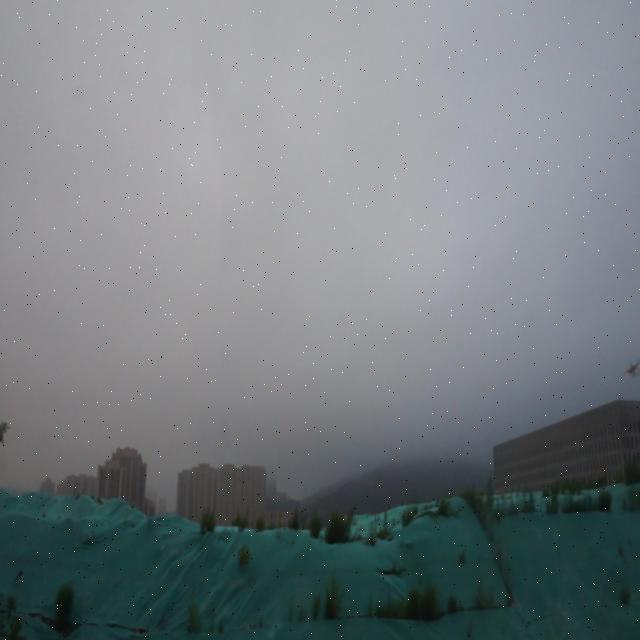UAV: (625, 362, 640, 378)
